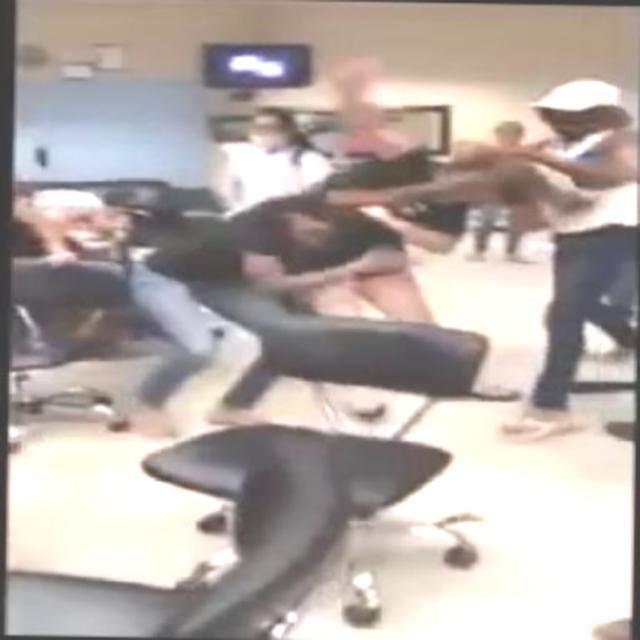fight: (127, 137, 544, 440)
